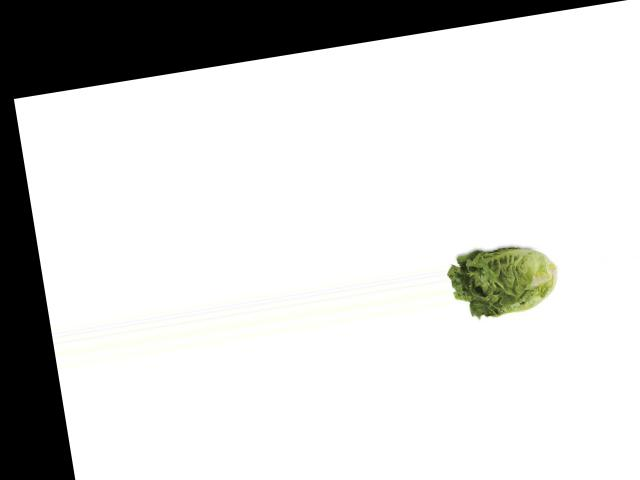lettuce: (446, 233, 564, 329)
